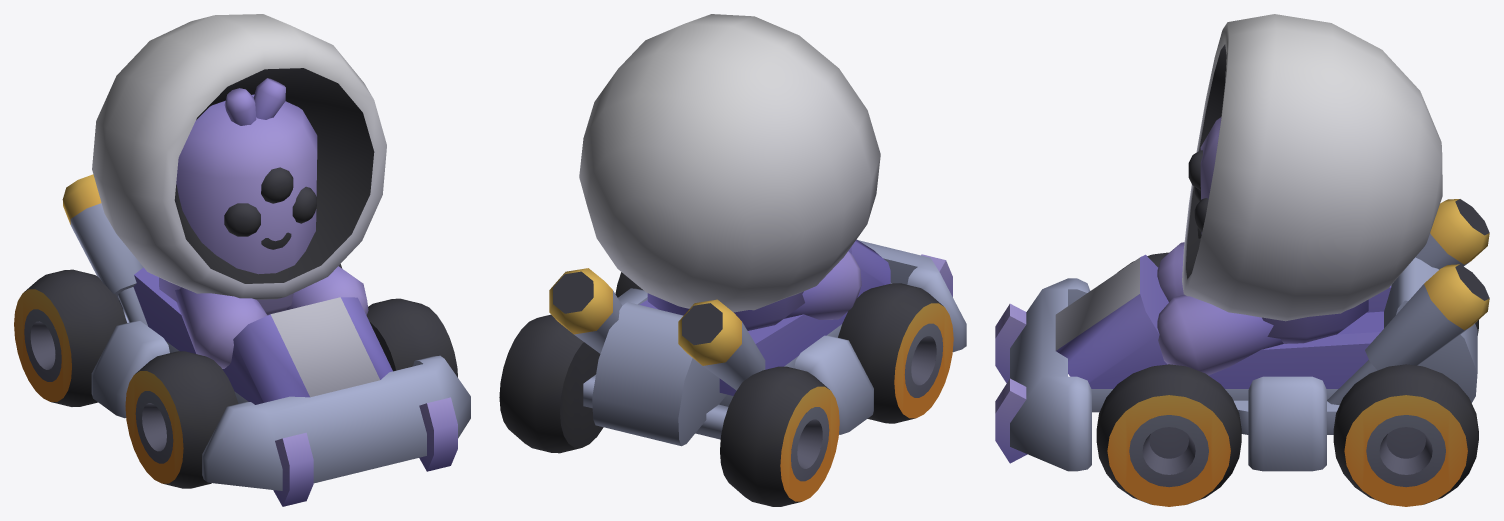
Rendered from kart-oobi.glb.
The picture shows the model from 3 angles, left to right: view 1: azimuth 30°, elevation 25°; view 2: azimuth 150°, elevation 25°; view 3: azimuth 270°, elevation 25°; orthographic projection. The views are drawn at different scales.
Parts seen in each view (by area): view 1: character, kart-oobi, wheel-back-right, wheel-front-right, wheel-front-left; view 2: character, kart-oobi, wheel-back-right, wheel-front-right, wheel-back-left; view 3: character, kart-oobi, wheel-front-left, wheel-back-left.
Boxes of the visible parts, box(x1,y1,x2,y2) form: character: box(92, 14, 386, 368); kart-oobi: box(62, 174, 470, 506); wheel-back-right: box(14, 269, 126, 406); wheel-front-right: box(125, 351, 238, 488); wheel-front-left: box(366, 298, 457, 377); character: box(579, 14, 880, 330); kart-oobi: box(549, 239, 966, 446); wheel-back-right: box(720, 366, 839, 506); wheel-front-right: box(838, 283, 953, 423); wheel-back-left: box(499, 314, 603, 453); character: box(1157, 14, 1442, 375); kart-oobi: box(995, 199, 1489, 471); wheel-front-left: box(1096, 364, 1241, 506); wheel-back-left: box(1333, 364, 1478, 506).
Size of the model in its own units: 0.9743 by 1.33 by 1.43.
